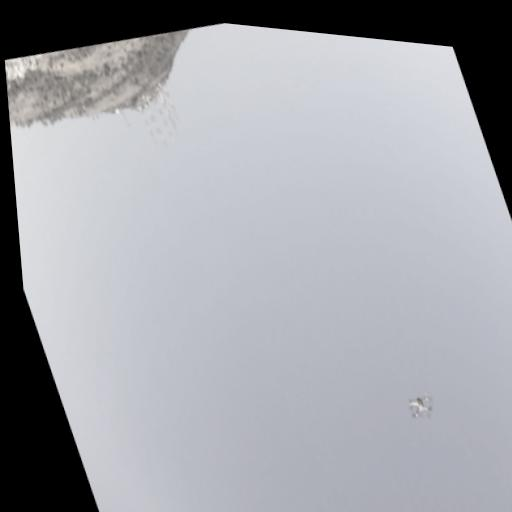drones: (399, 380, 441, 428)
